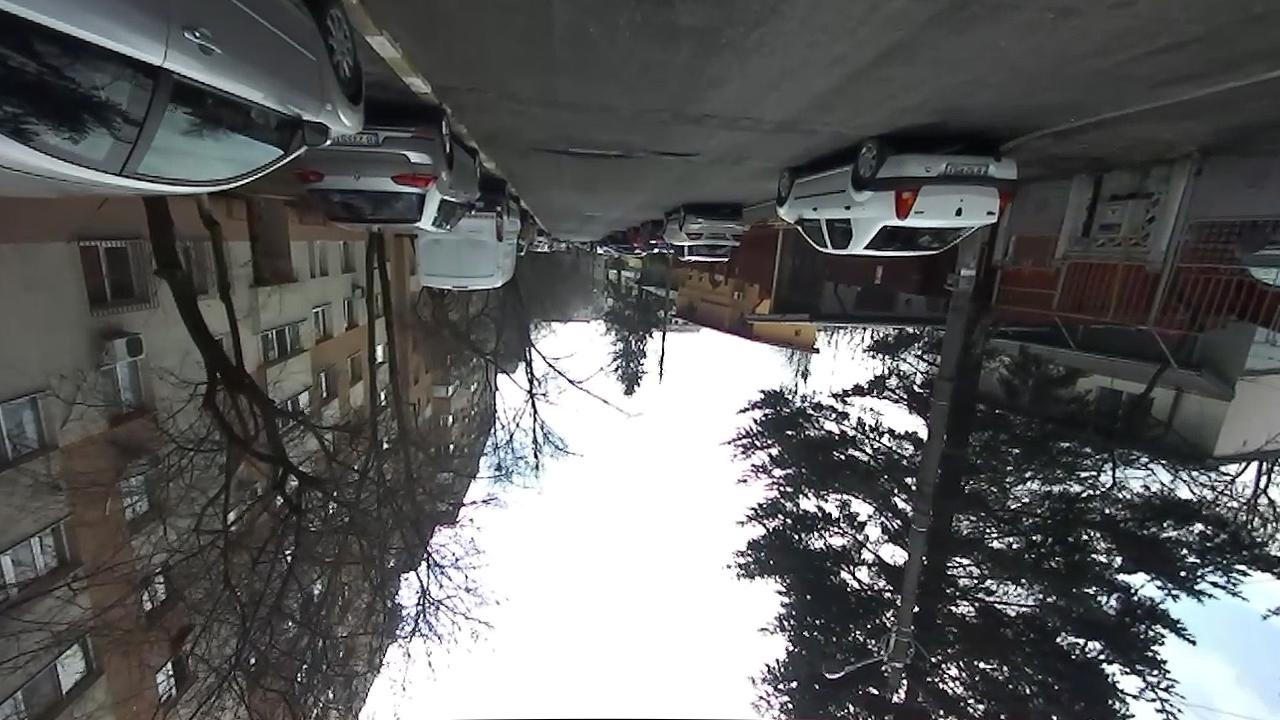pothole: (535, 145, 627, 160), (650, 148, 698, 158)
